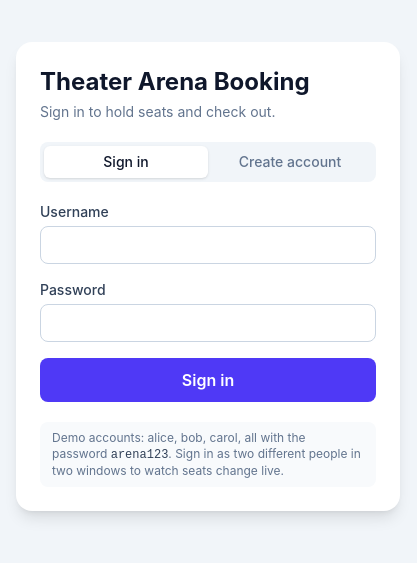
it: LoginPage › shows the server message and stays signed out when the password is wrong
Type "alice" into the field labelled "Username".
click(208, 244); type("alice")  # box [40,226,376,264]
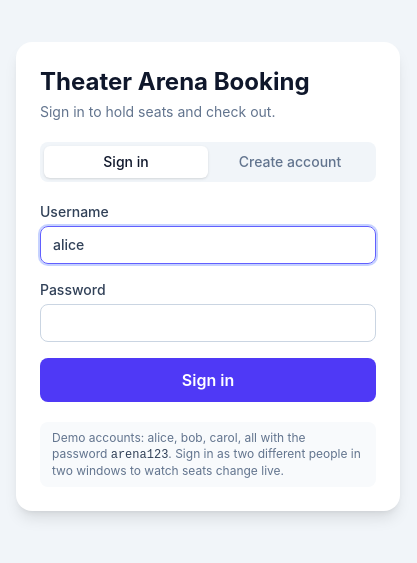
Type "nope" into the password field labelled "Password".
click(208, 322); type("nope")  # box [40,304,376,342]
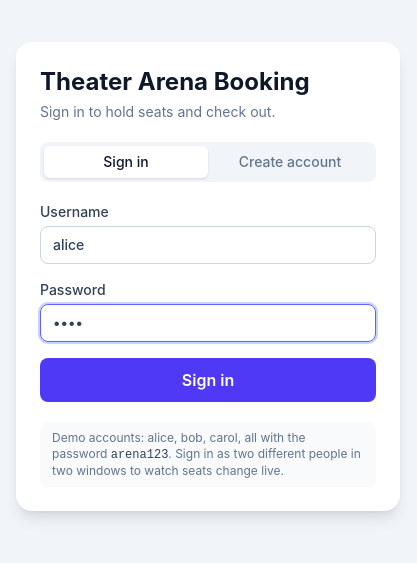
Click the button "Sign in".
click(208, 380)  # box [40,358,376,402]
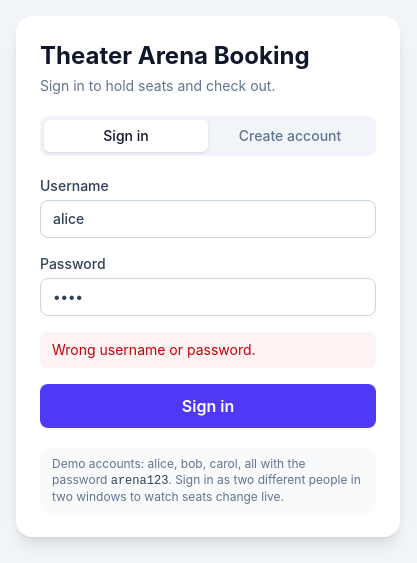
Check: the message reads "Wrong username or password.", box [52,340,256,358]
